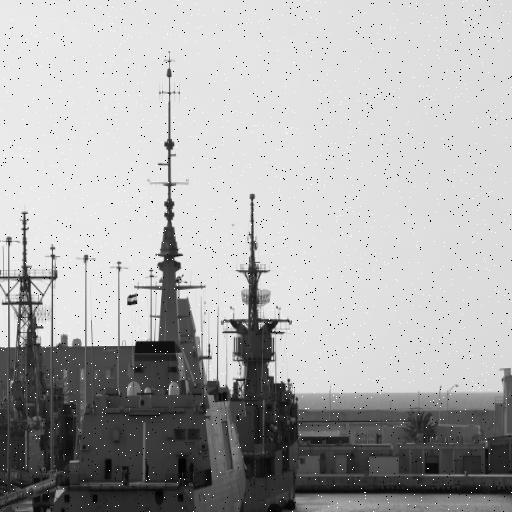Fragata: (46, 50, 246, 512), (220, 194, 302, 512)
